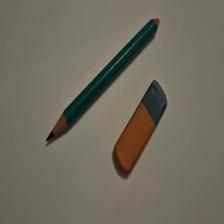eraser: (115, 80, 169, 175)
pencil: (47, 19, 160, 143)
